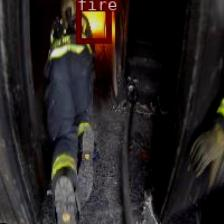fire: (74, 0, 110, 42)
